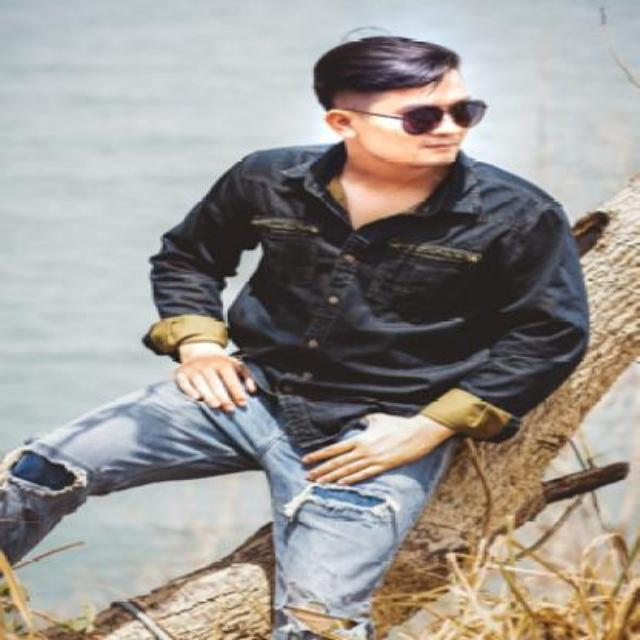glasses: (343, 100, 487, 134)
